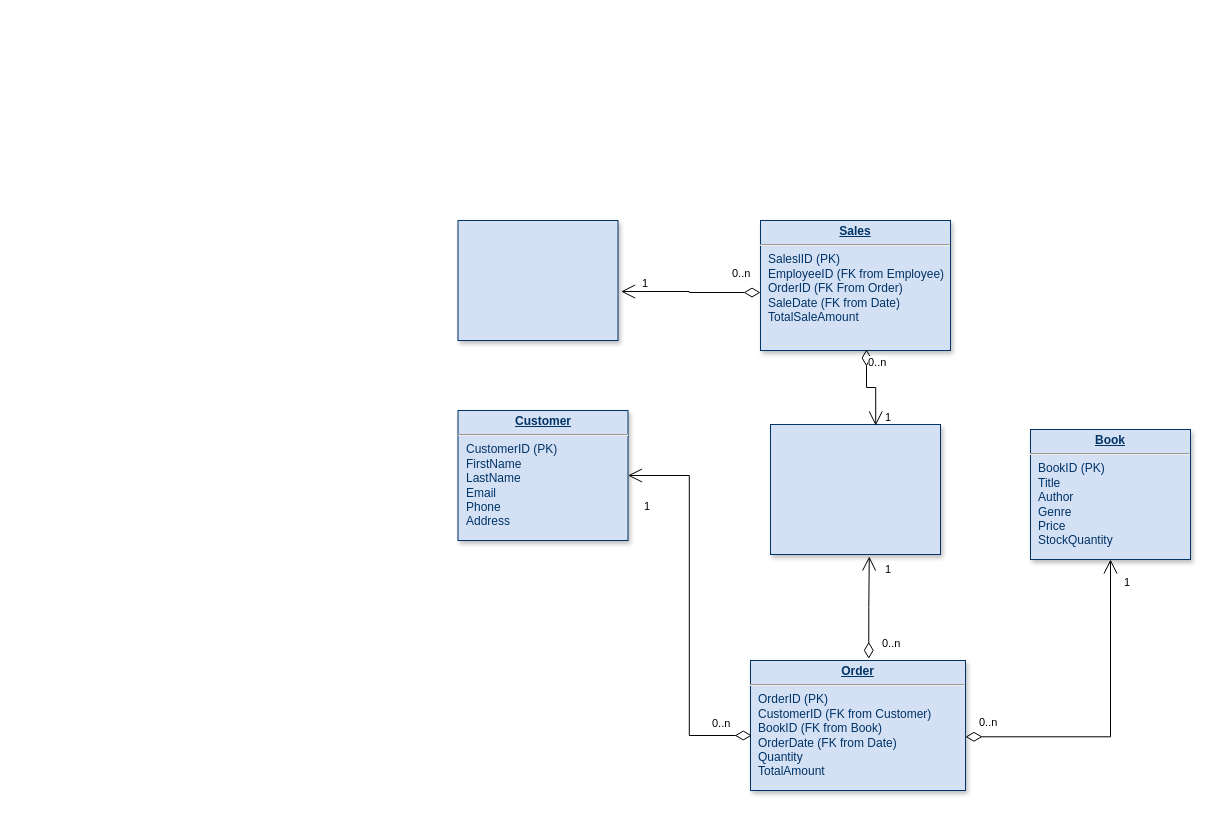
Some shapes in this 1215 by 816 pixel diagram are drawn without their labels. Each missing label, with the centre of its shape:
"Date DateID (PK) Date Year Month Day Quarter" belongs at point 856,491.
"Employee EmployeeID (PK) FistName LastName Position HireDate" belongs at point 538,282.
